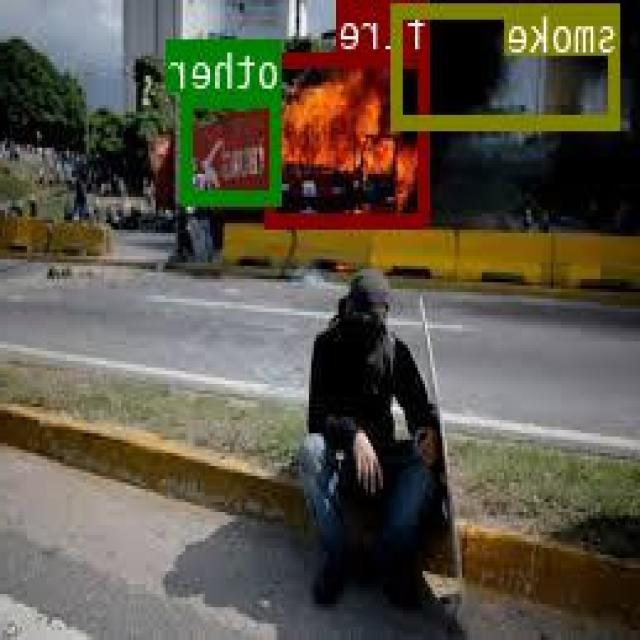fire: (268, 51, 431, 224)
other: (184, 90, 284, 203)
smoke: (393, 1, 620, 125)
